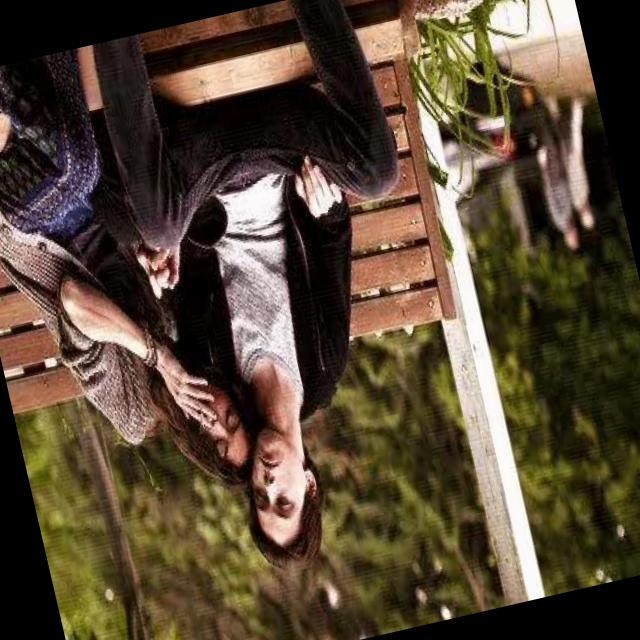cigarette: (183, 386, 213, 442)
